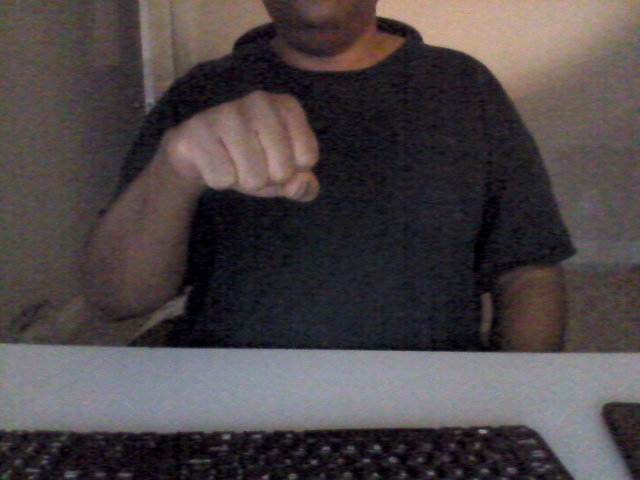yes: (157, 81, 329, 205)
